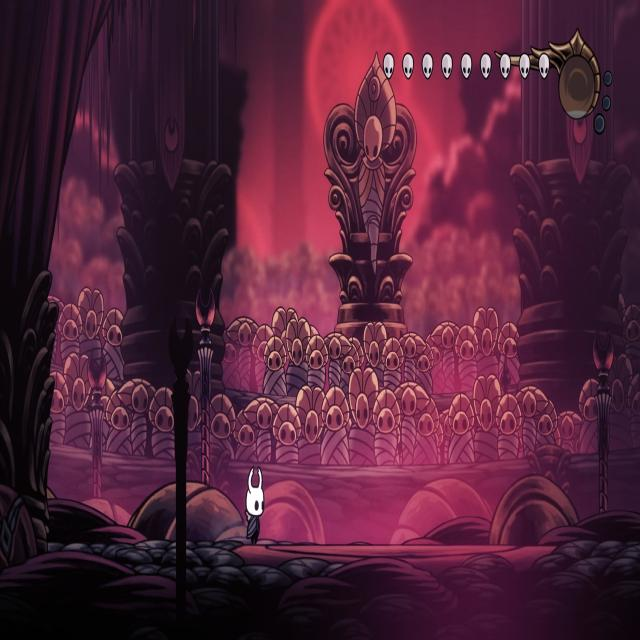Player: (240, 462, 266, 549)
